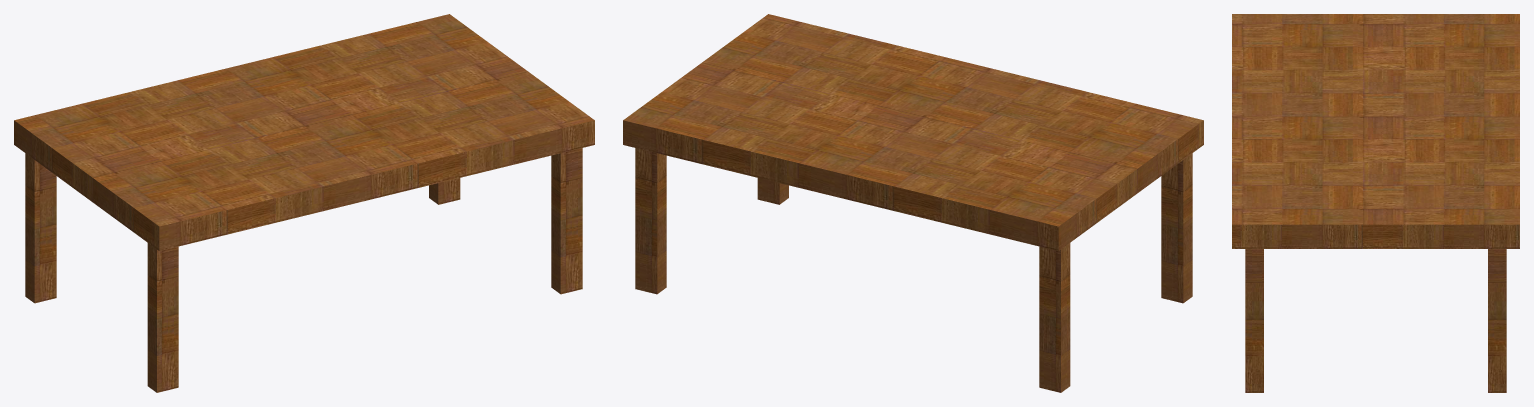
The model's file is desk.fbx.
The picture shows the model from 3 angles, left to right: view 1: azimuth 30°, elevation 25°; view 2: azimuth 150°, elevation 25°; view 3: azimuth 270°, elevation 25°; orthographic projection.
Parts seen in each view (by area): view 1: Small_Table:polySurface1; view 2: Small_Table:polySurface1; view 3: Small_Table:polySurface1.
Boxes of the visible parts, <box> form: Small_Table:polySurface1: <box>14,14,594,392</box>; Small_Table:polySurface1: <box>623,14,1203,392</box>; Small_Table:polySurface1: <box>1232,14,1519,392</box>.
Size of the model in its own units: 74 by 28 by 42.75.
Materials: 1 (1 with a texture image).
